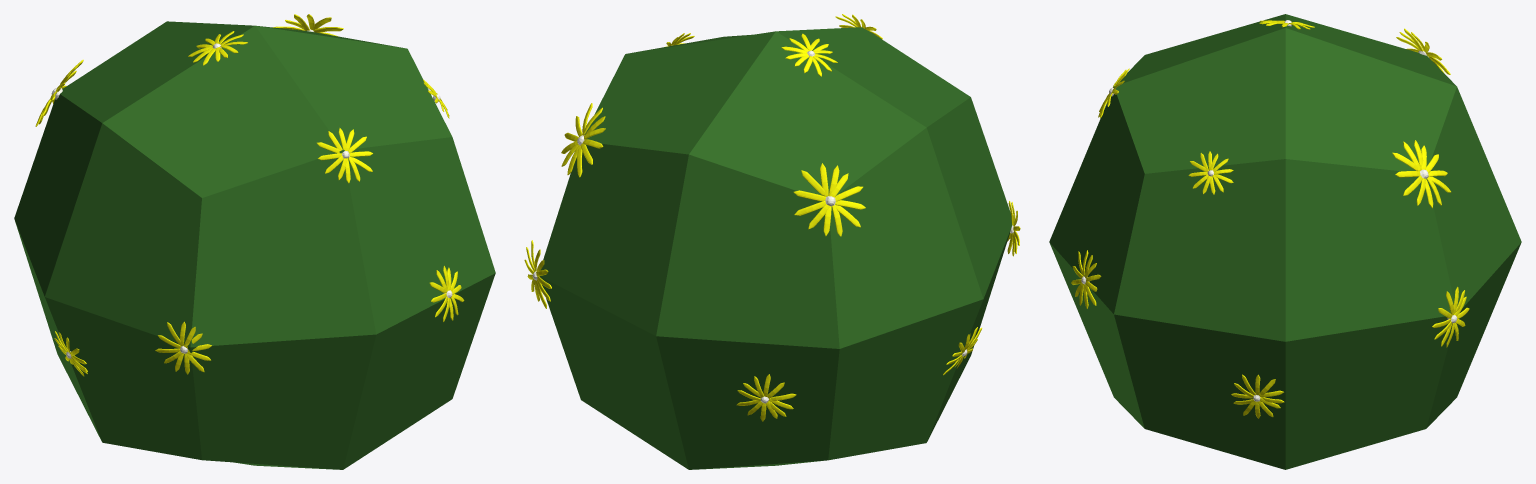
Rendered from arbusto_flores_amarillas.fbx.
3 views of the same model, side by side, from view 1: azimuth 30°, elevation 25°; view 2: azimuth 150°, elevation 25°; view 3: azimuth 270°, elevation 25° (orthographic). The views are drawn at different scales.
Parts seen in each view (by area): view 1: Cube.188; view 2: Cube.188; view 3: Cube.188.
Boxes of the visible parts, <box> form: Cube.188: <box>14,14,495,469</box>; Cube.188: <box>524,14,1020,469</box>; Cube.188: <box>1049,14,1521,469</box>.
Size of the model in its own units: 168 by 168 by 168.
